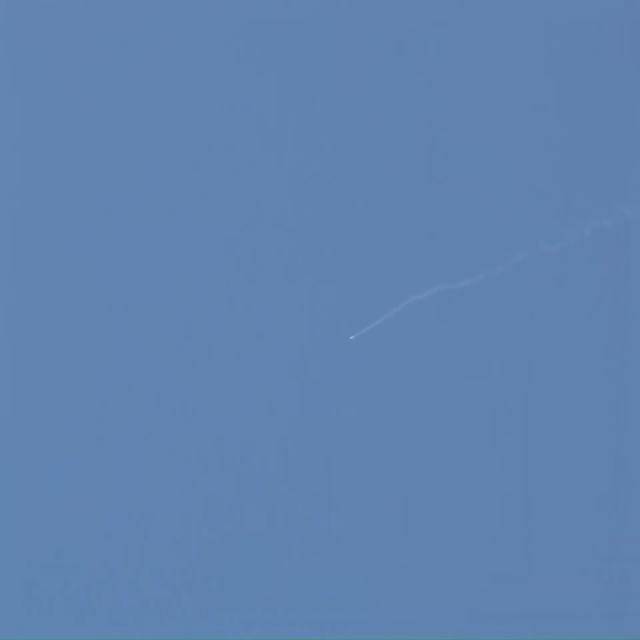Rocket: (349, 338, 352, 340)
